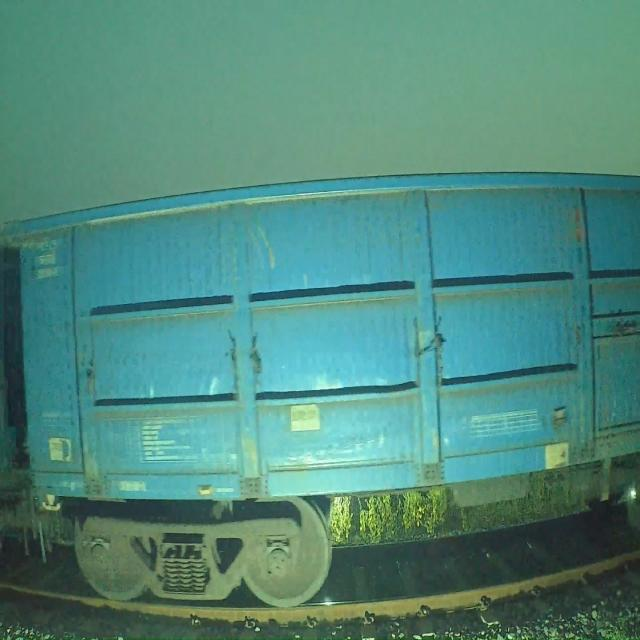WAgon-uic: (2, 170, 640, 608)
